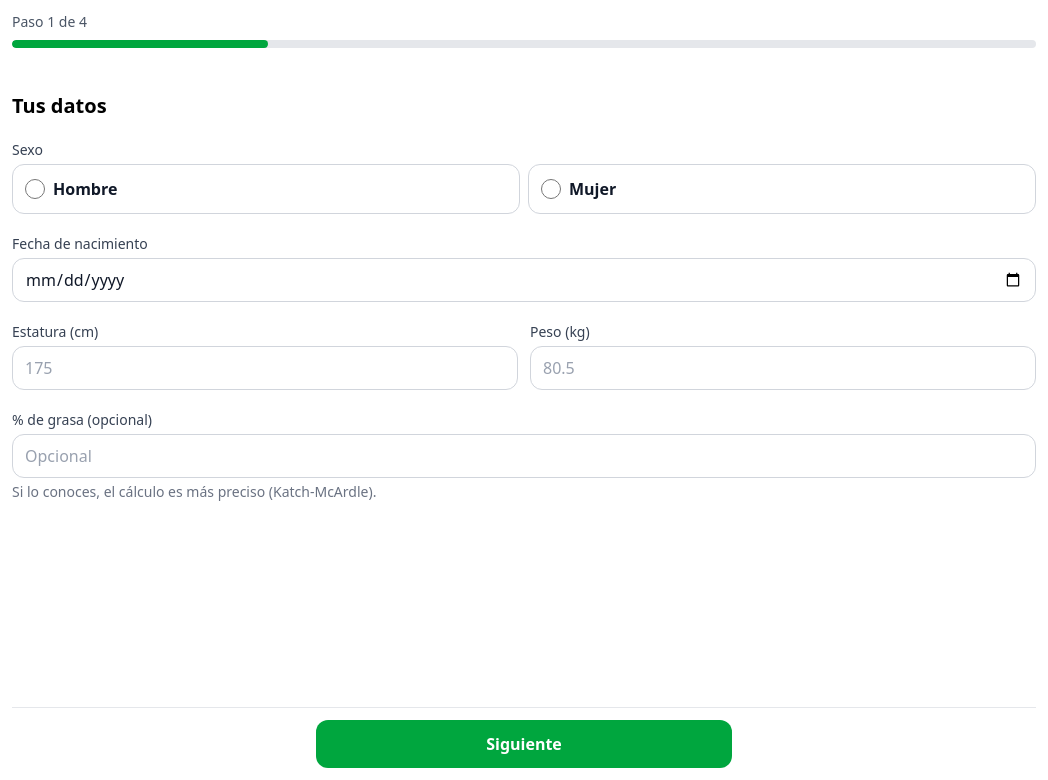
Test: Onboarding paso 1 › no deja avanzar con datos vacíos y muestra errores en español
Check: the text "Paso 1 de 4" is shown, box [12,12,87,31]
Click the button "Siguiente" at (524, 744), box [316,720,732,768]
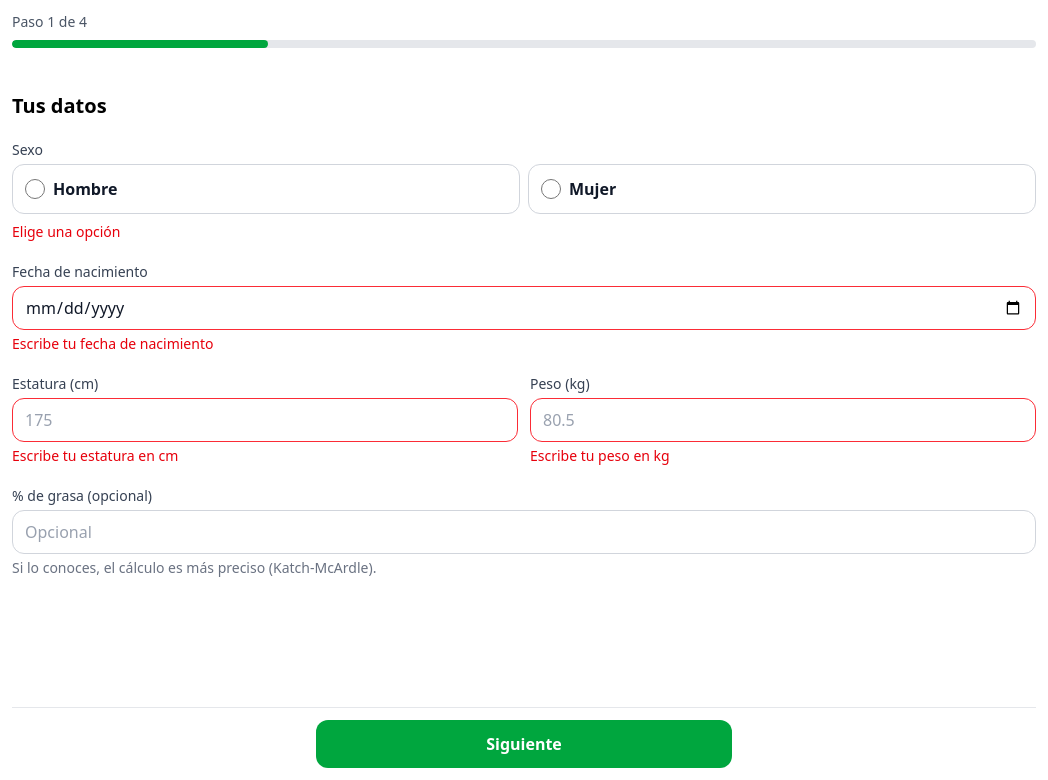
Check: the text "Paso 1 de 4" is shown, box [12,12,87,31]
Check: the text "Elige una opción" is shown, box [12,222,120,241]
Check: the text "Escribe tu estatura en cm" is shown, box [12,446,178,465]
